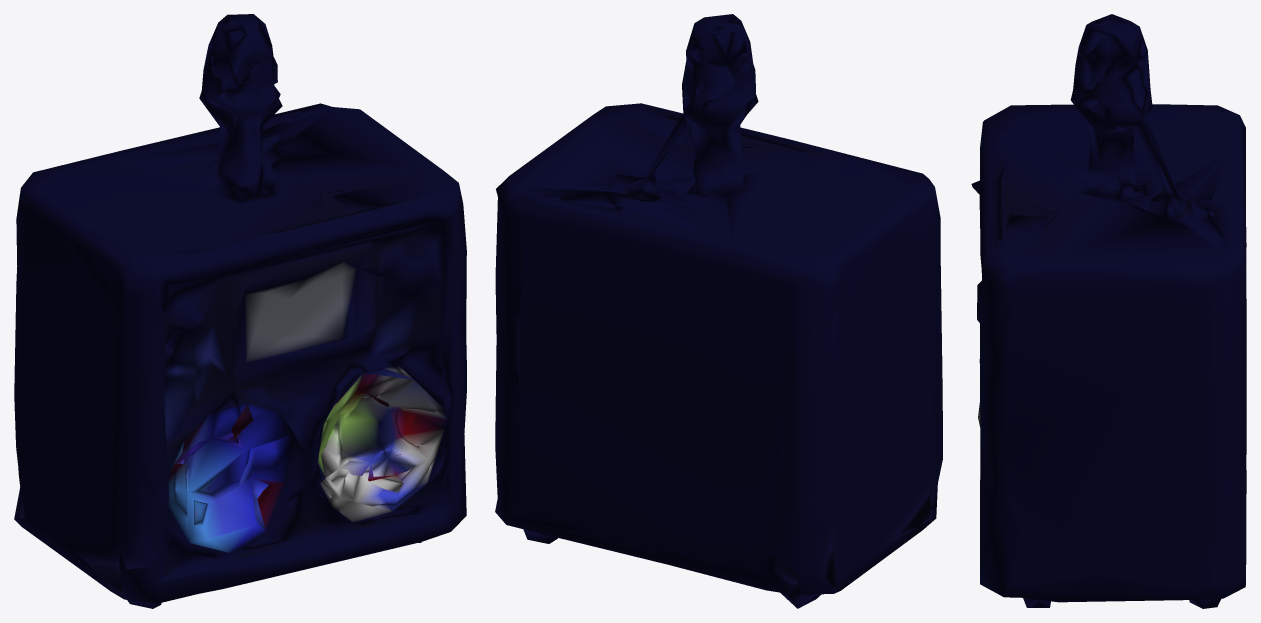
Rendered from gen3d-karaoke-machine-lod0.glb.
3 renders of one model, left to right at view 1: azimuth 30°, elevation 25°; view 2: azimuth 150°, elevation 25°; view 3: azimuth 270°, elevation 25°, orthographic.
Parts seen in each view (by area): view 1: part_0; view 2: part_0; view 3: part_0.
Part boxes in pixels (<box>): part_0: <box>14,14,466,608</box>; part_0: <box>495,14,942,608</box>; part_0: <box>971,14,1246,608</box>.
Bounding box in the file's own units: 0.6878 × 0.9995 × 0.4814.
